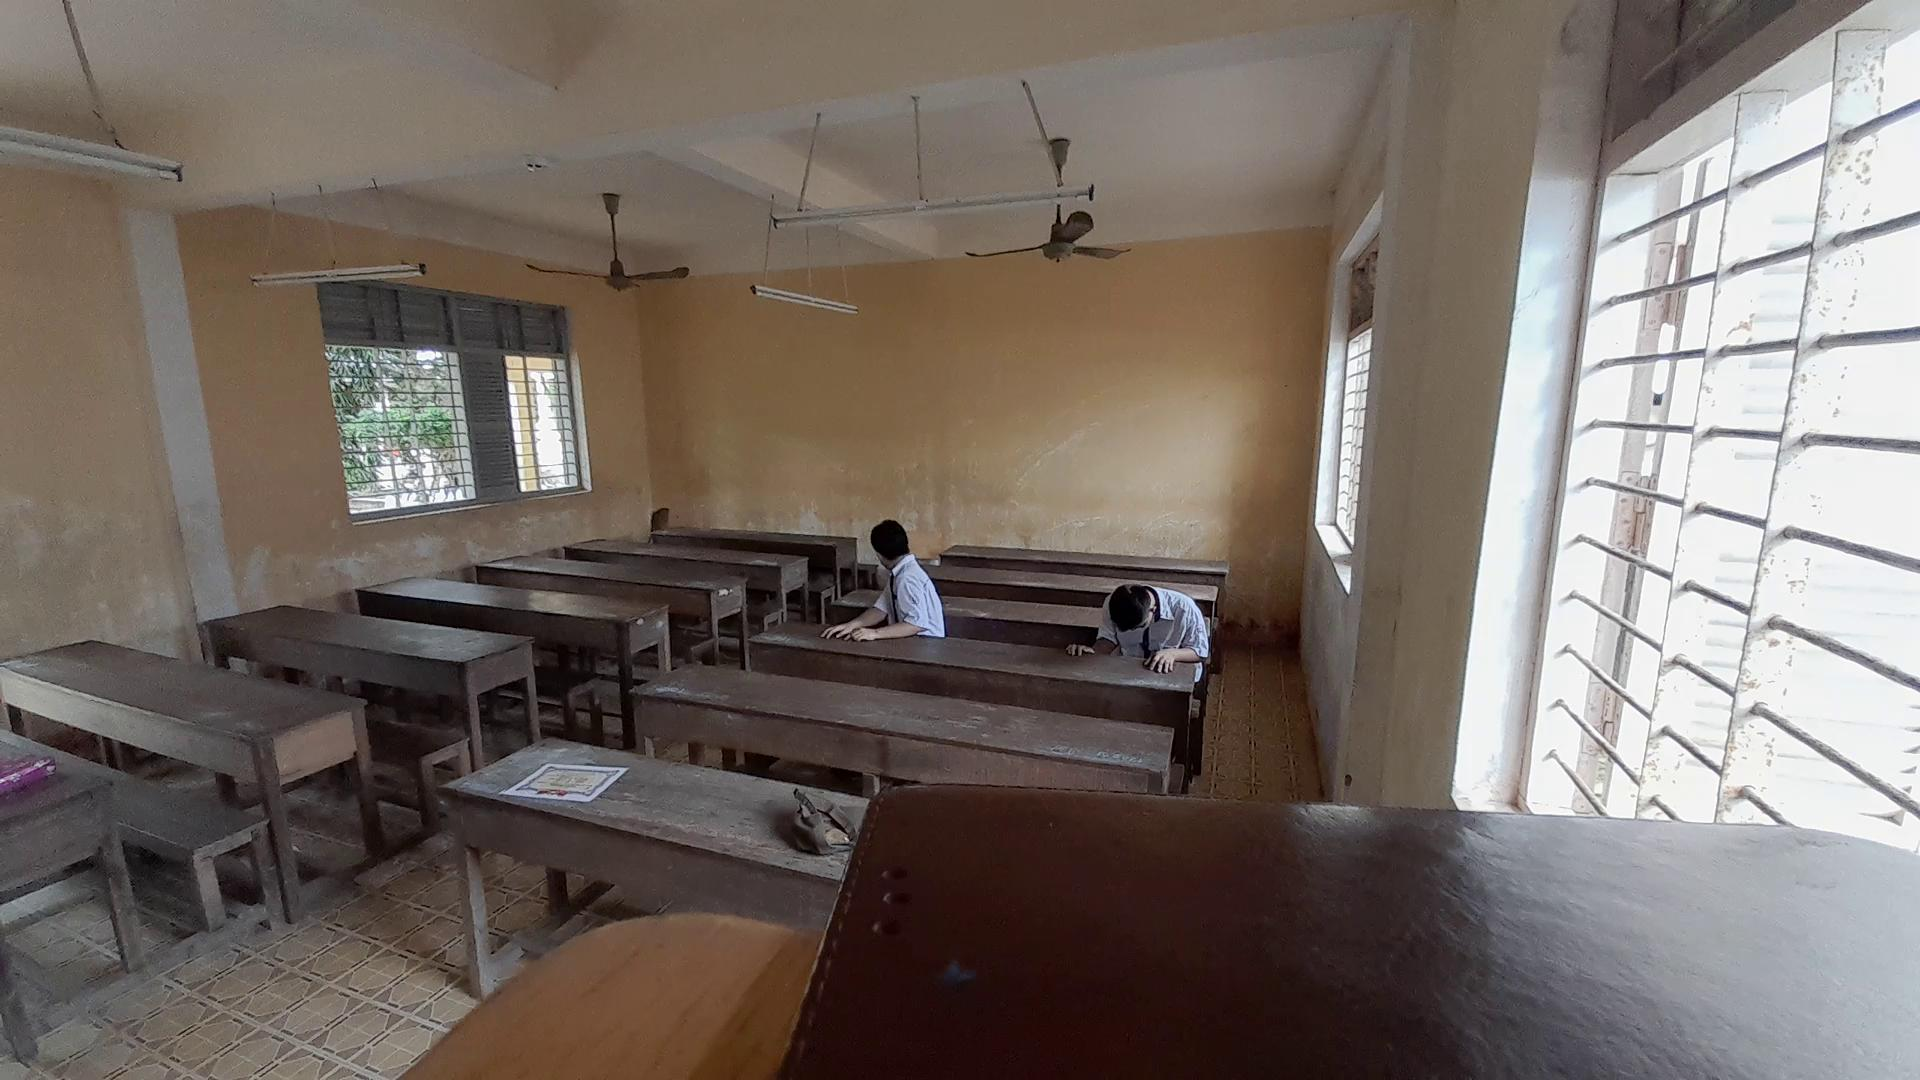Bend Over The Desk: (1097, 567, 1174, 650)
Look Around: (849, 506, 922, 578)
